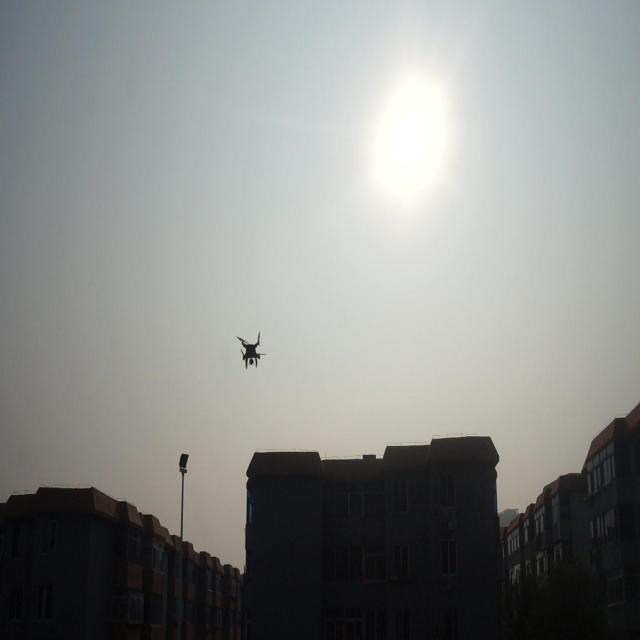UAV: (236, 331, 266, 369)
